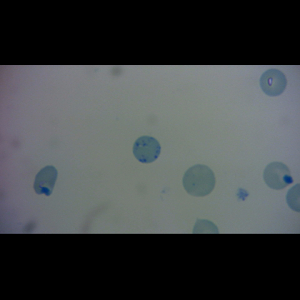aggregate reticulocyte: (131, 135, 163, 165)
erythrocyte: (262, 160, 296, 191), (258, 67, 289, 98), (32, 164, 60, 197)
punctate reticulocyte: (181, 163, 218, 198)
